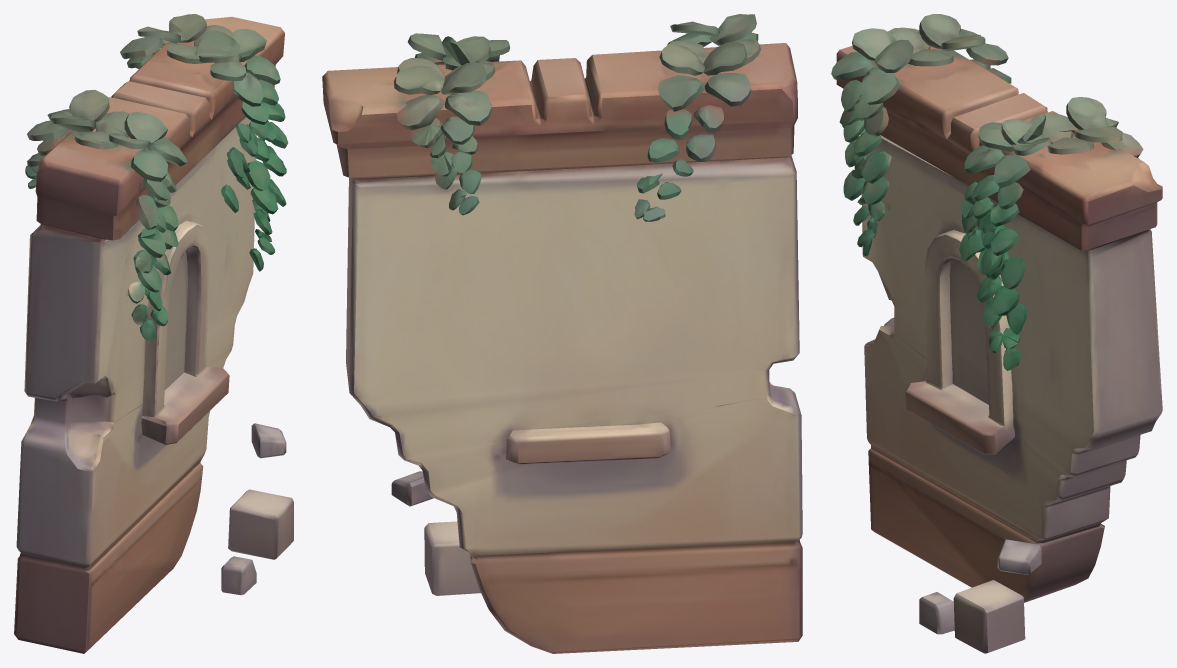
The model's file is SM_RuinWallIvy_01.fbx.
3 views of the same model, side by side, from view 1: azimuth 30°, elevation 25°; view 2: azimuth 150°, elevation 25°; view 3: azimuth 270°, elevation 25° (orthographic). The views are drawn at different scales.
Visible parts, largest first — view 1: SM_RuinWallIvy_01; view 2: SM_RuinWallIvy_01; view 3: SM_RuinWallIvy_01.
Boxes of the visible parts, <box> form: SM_RuinWallIvy_01: <box>14,14,293,653</box>; SM_RuinWallIvy_01: <box>322,14,802,653</box>; SM_RuinWallIvy_01: <box>831,14,1162,653</box>.
Size of the model in its own units: 52.45 by 74.93 by 43.
Materials: 1 (1 with a texture image).
